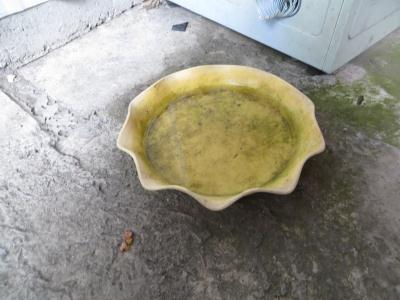plate: (109, 59, 330, 219)
